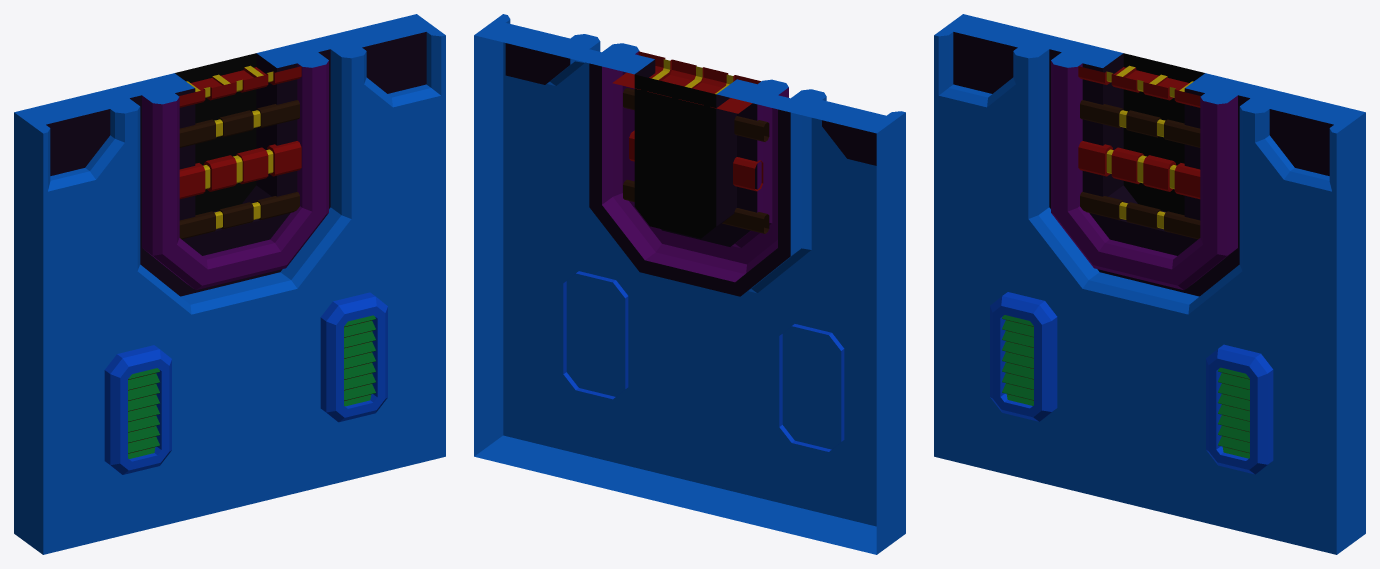
Rendered from OBJ_Mur_3.fbx.
3 renders of one model, left to right at view 1: azimuth 30°, elevation 25°; view 2: azimuth 150°, elevation 25°; view 3: azimuth 330°, elevation 25°, orthographic.
Parts seen in each view (by area): view 1: Mur_3; view 2: Mur_3; view 3: Mur_3.
Part boxes in pixels (x1=…): Mur_3: x1=14, y1=14, x2=445, y2=554; Mur_3: x1=474, y1=14, x2=905, y2=554; Mur_3: x1=934, y1=14, x2=1365, y2=554.
Bounding box in the file's own units: 1600 × 1600 × 266.
